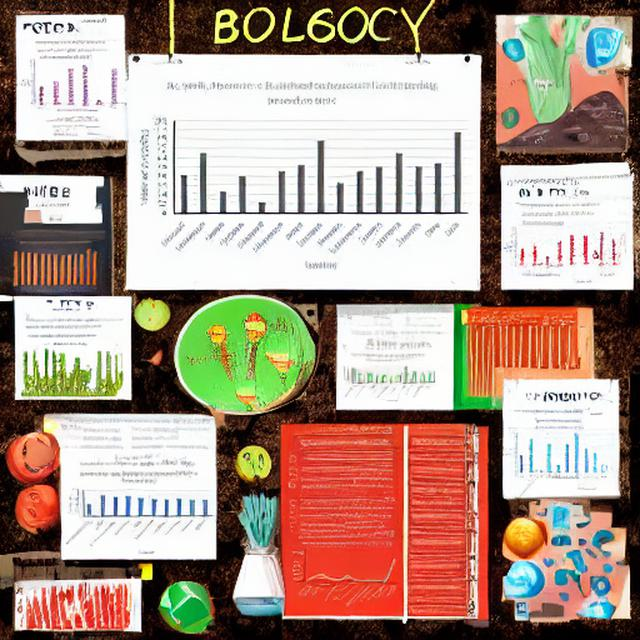Graph: (131, 74, 475, 278), (64, 468, 213, 556), (286, 541, 403, 616), (17, 52, 124, 115), (505, 425, 609, 481), (337, 350, 437, 405), (5, 240, 102, 296), (504, 221, 579, 272)
